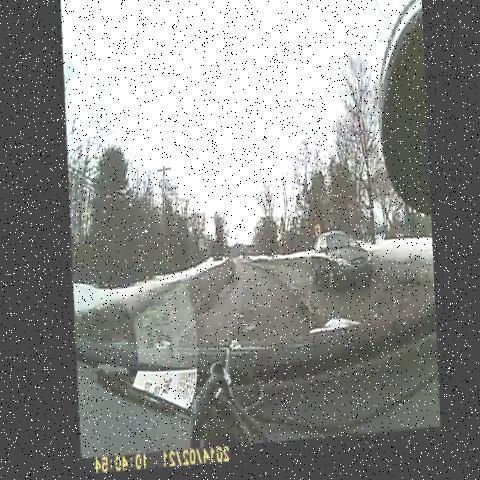pothole: (279, 273, 319, 326), (232, 301, 264, 344)
